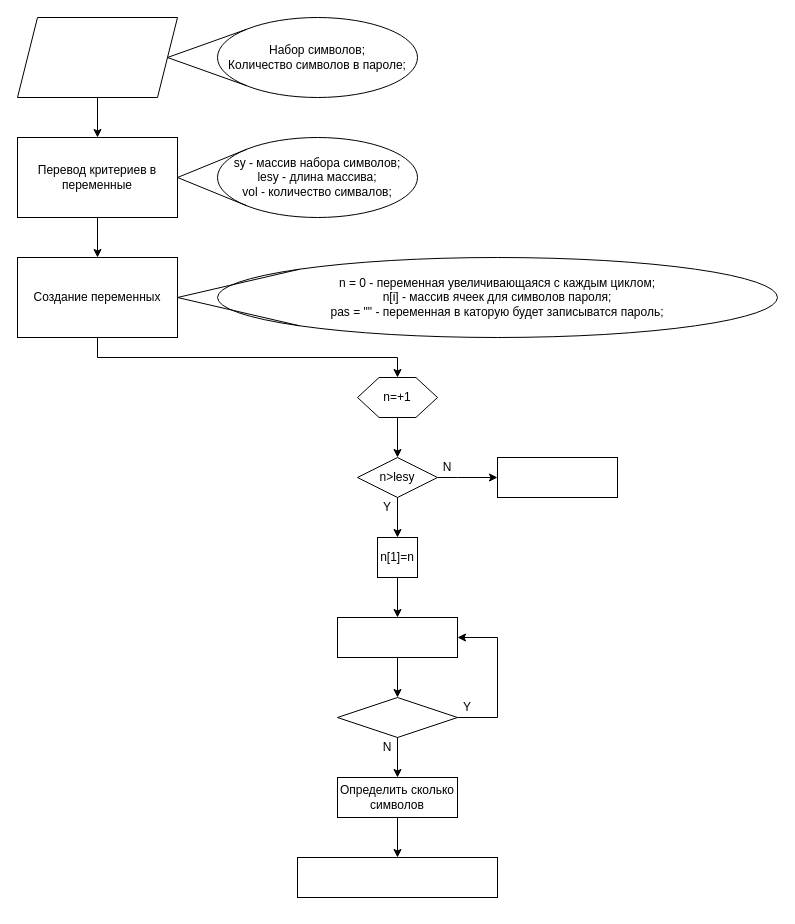
The diagram is 795 pixels wide and 924 high, and some of its shapes have lost their labels. Each missing label, with the box of its shape:
n[i+1]>lesy: (336, 696, 458, 738)
n[i]=n[i]:lesy; n[i+1]=n[i]%lesy;: (336, 616, 458, 658)
par = sy[n]: (496, 456, 618, 498)
pas = ... n[i+2] n[i+1] n[i]: (296, 856, 498, 898)
Получение необходимых критериев: (16, 16, 178, 98)
